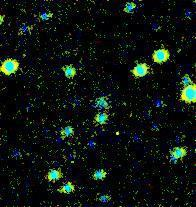star: (180, 120, 196, 150)
